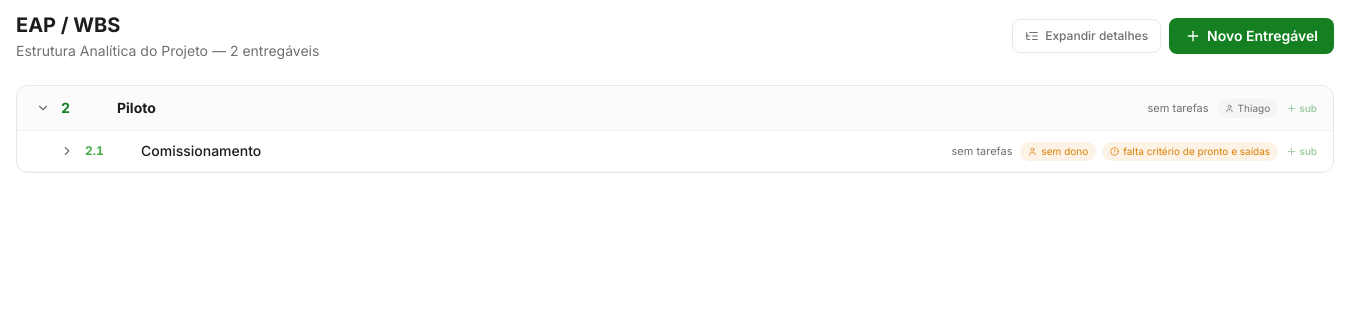
Test: WbsClient — detalhes do pacote de trabalho › should show the details of a parent node too
Expected: the text "Thiago" is shown, [1217,98,1278,118]
What coordinates should you click on to do the following:
click the button "Piloto"
I would click on:
 (136, 108)
Its box is [117,98,1140,118].
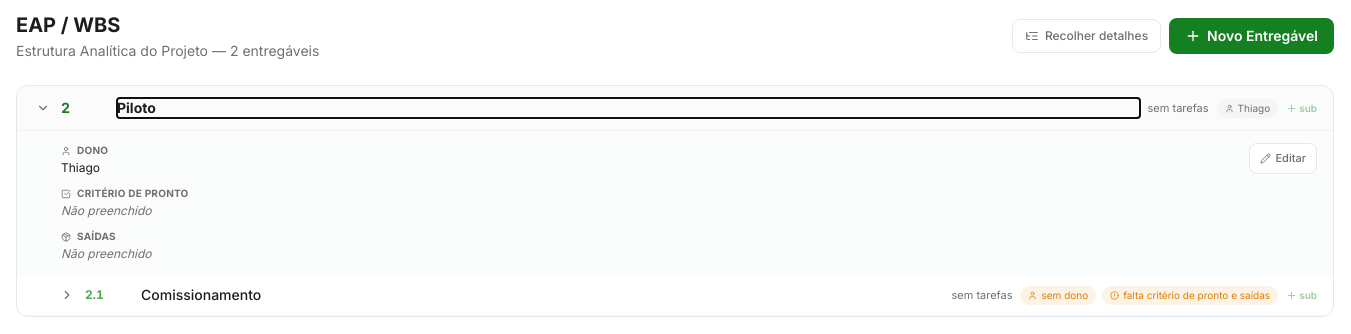
Expected: the button "Comissionamento" is shown, [141,285,943,305]
Result: the text "Dono" is shown at [61,144,108,156]
